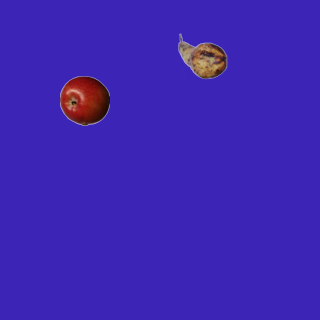Apple Braeburn: (59, 75, 109, 125)
Pear Abate: (177, 31, 227, 81)
